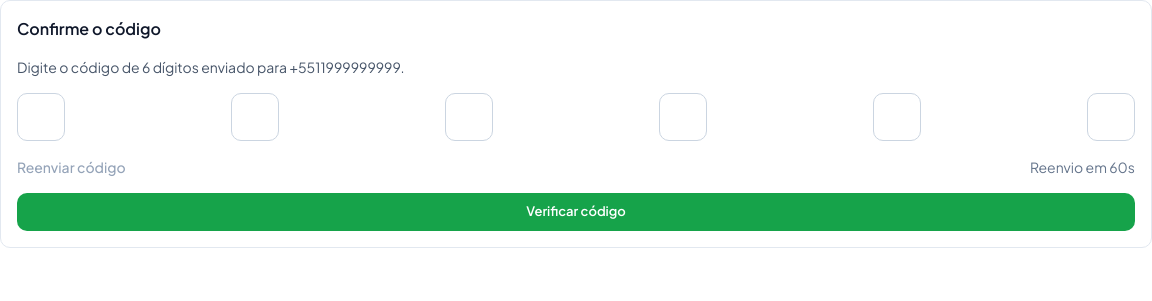
OTPVerificationStep › mostra erro quando codigo incompleto
Step 1. Type "1" into the field named "Digito 1 do codigo" → [41, 117], box [17,93,65,141]
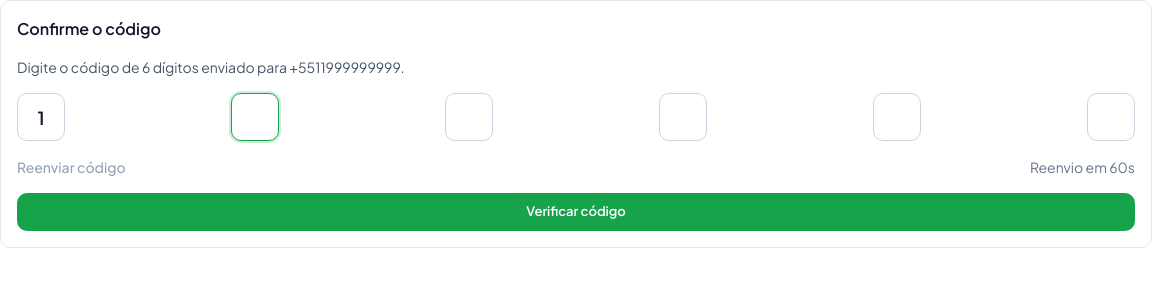
Step 2. Click the button "Verificar código" → [576, 212], box [17,193,1135,230]
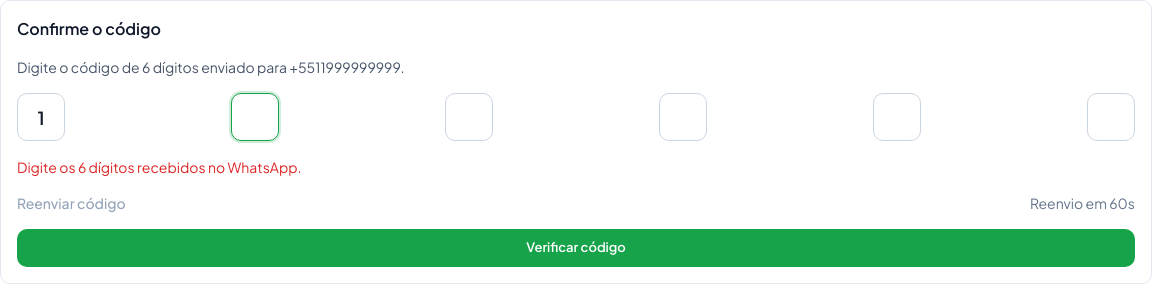
Expected: the text "Digite os 6 dígitos recebidos no WhatsApp." is shown, [17,158,302,176]
